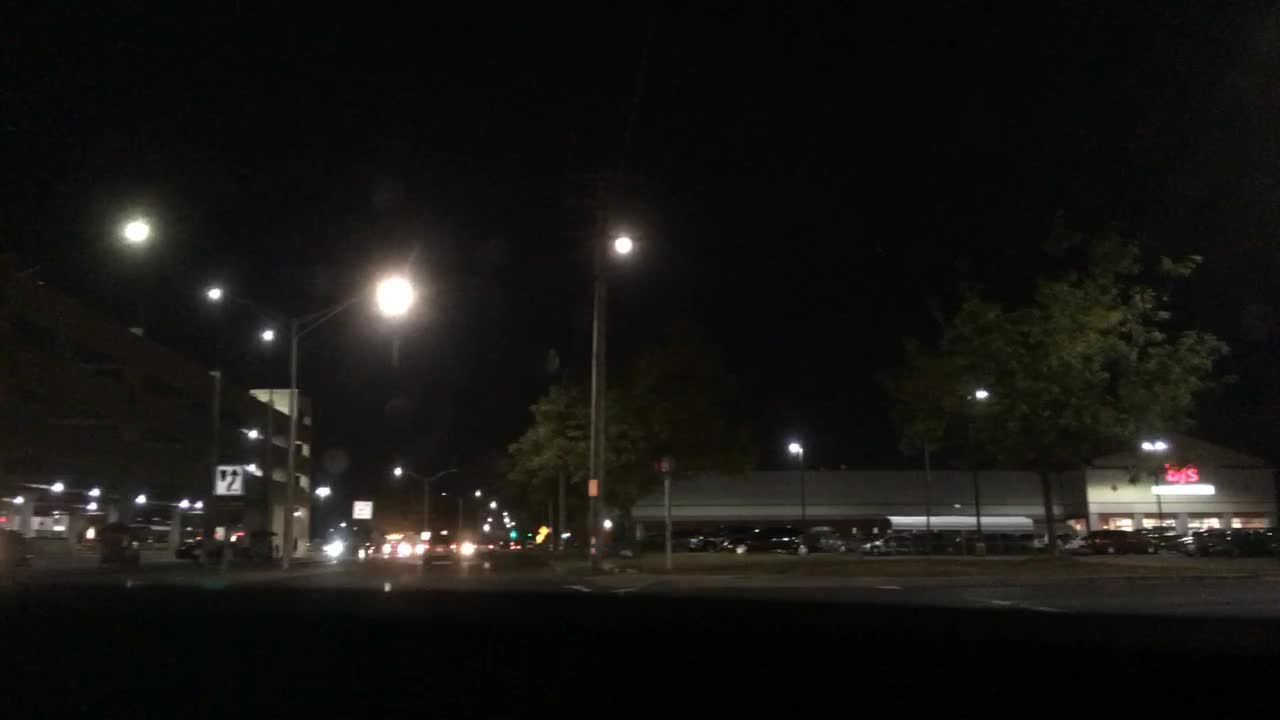car: (719, 525, 816, 555), (1182, 527, 1263, 555), (1067, 529, 1154, 555), (862, 528, 932, 557), (691, 524, 758, 554), (801, 525, 856, 553), (100, 533, 142, 564), (177, 535, 225, 559), (422, 536, 459, 565), (1027, 531, 1074, 553), (1135, 529, 1186, 548), (1247, 529, 1279, 555), (381, 535, 415, 557), (509, 540, 522, 549)
traffic light: (512, 529, 516, 537)
traffic sign: (215, 464, 243, 495), (351, 499, 372, 519), (588, 479, 598, 497), (538, 523, 548, 534), (534, 533, 546, 541)
